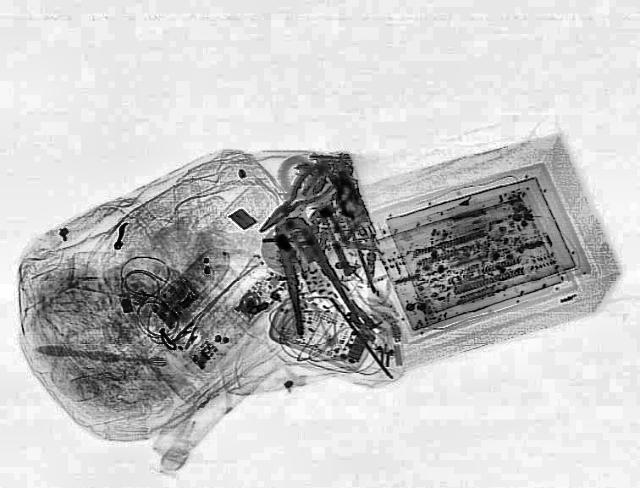Pliers: (252, 212, 366, 338), (244, 162, 344, 240)
